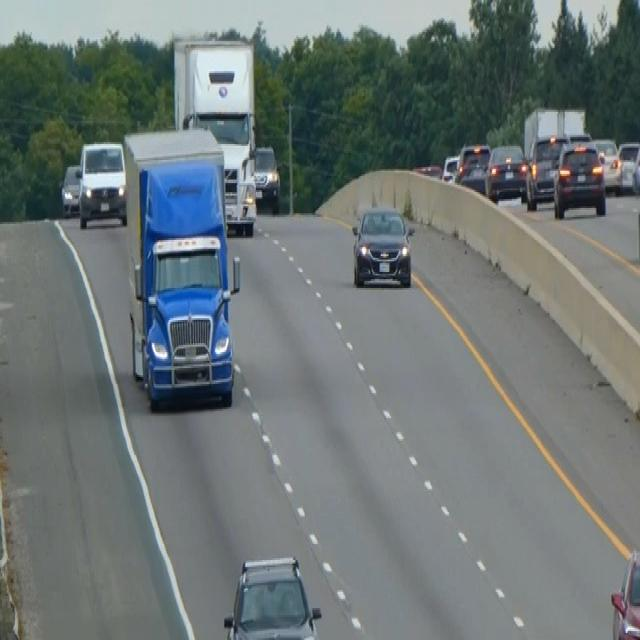car: (222, 553, 322, 638), (350, 203, 413, 288), (552, 138, 606, 218), (524, 132, 567, 208), (485, 142, 528, 203), (610, 548, 639, 638), (454, 140, 490, 192), (253, 144, 280, 213), (592, 135, 622, 194), (616, 139, 639, 192), (60, 162, 81, 217), (441, 153, 459, 183), (631, 142, 639, 196)
lorry: (121, 124, 240, 410)
minivan: (77, 138, 126, 228)
